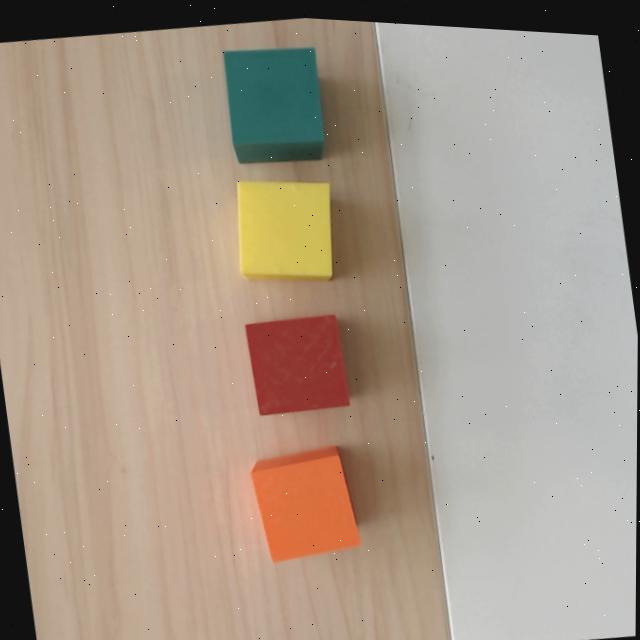Kubus-Hijau-505050: (224, 42, 326, 167)
Kubus-Jingga-505050: (249, 442, 361, 565)
Kubus-Kuning-505050: (238, 180, 333, 280)
Kubus-Merah-505050: (246, 310, 350, 418)
